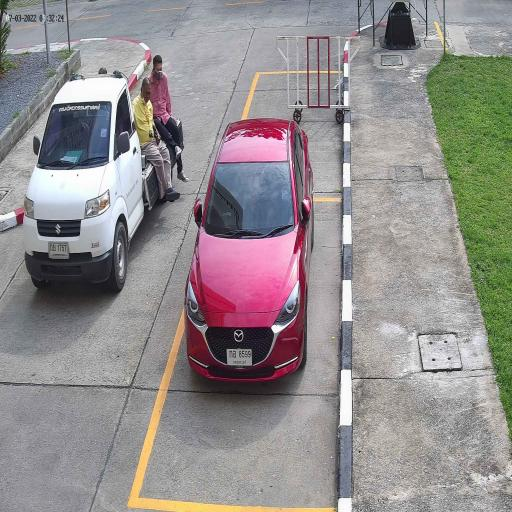car: (186, 119, 314, 381), (23, 74, 142, 286)
